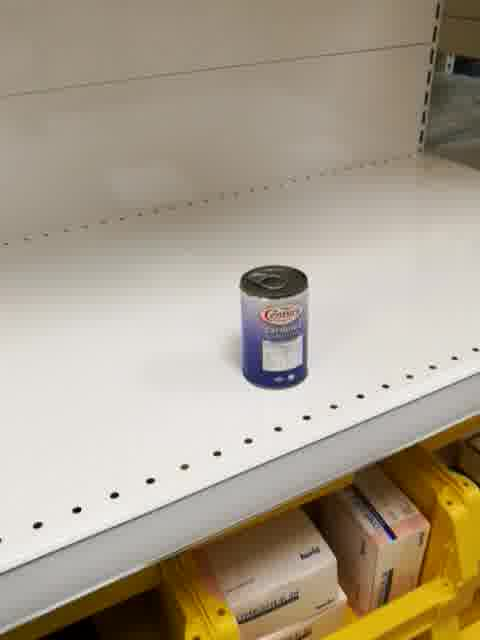sardine: (238, 263, 311, 392)
